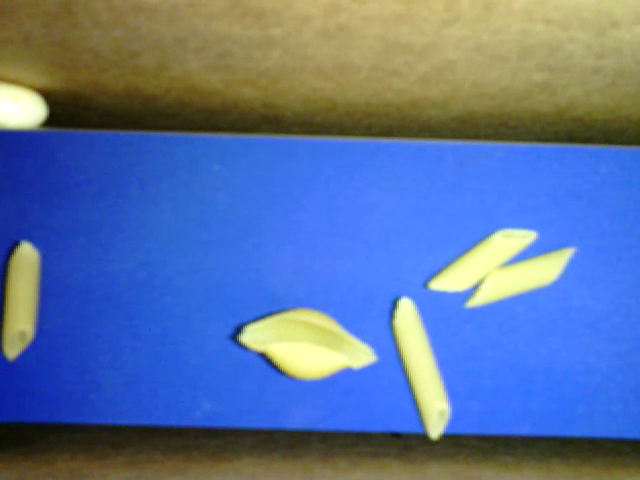penne: (392, 295, 450, 441), (425, 226, 538, 292), (464, 248, 575, 308), (2, 239, 41, 361)
shell: (236, 307, 377, 383)
